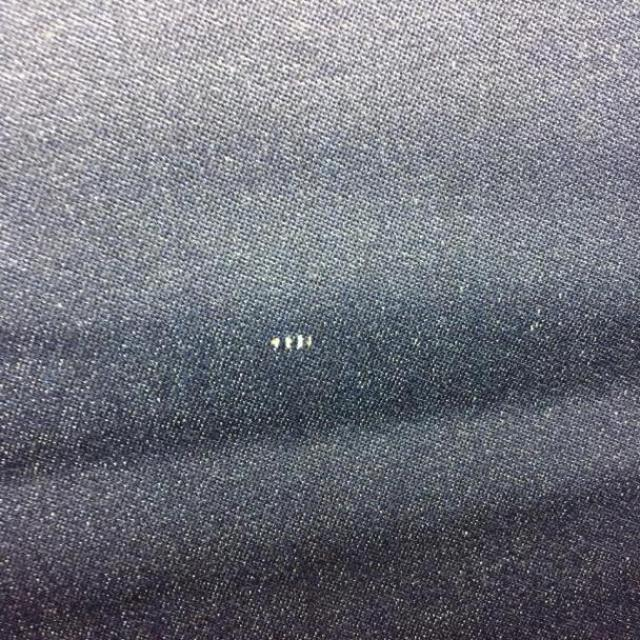Knot: (269, 336, 314, 351)
